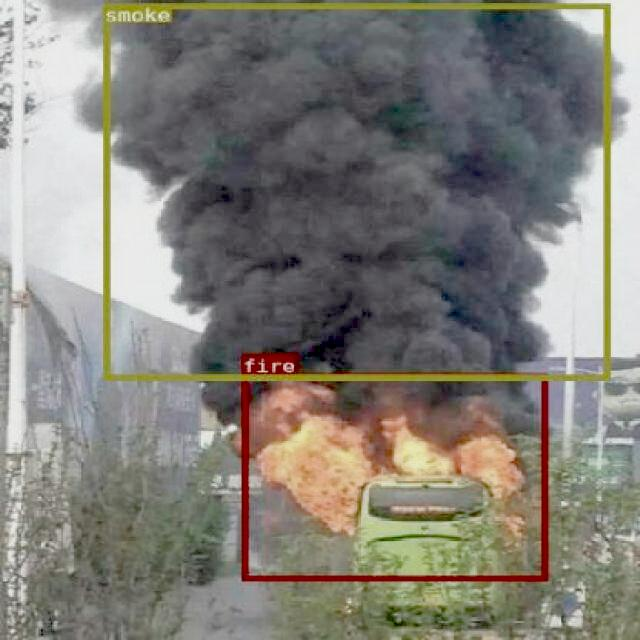fire: (240, 373, 546, 579)
smoke: (102, 3, 608, 379)
